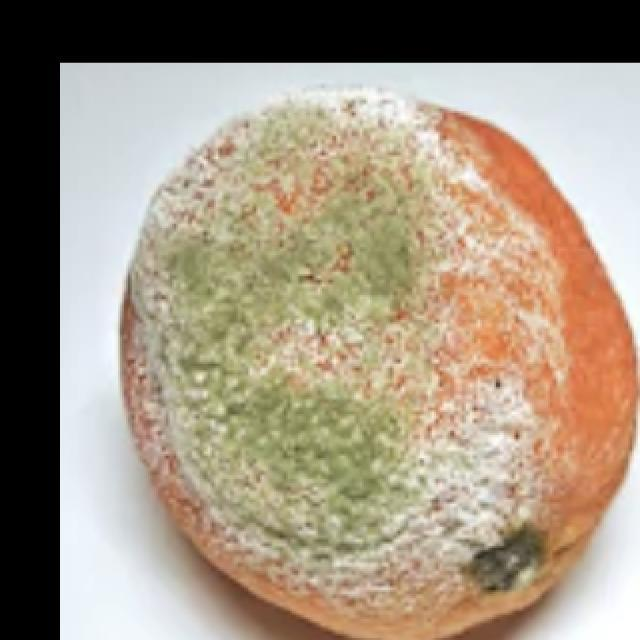sangat-busuk: (120, 88, 636, 639)
